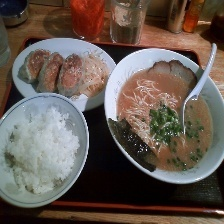rice: (0, 102, 81, 197)
